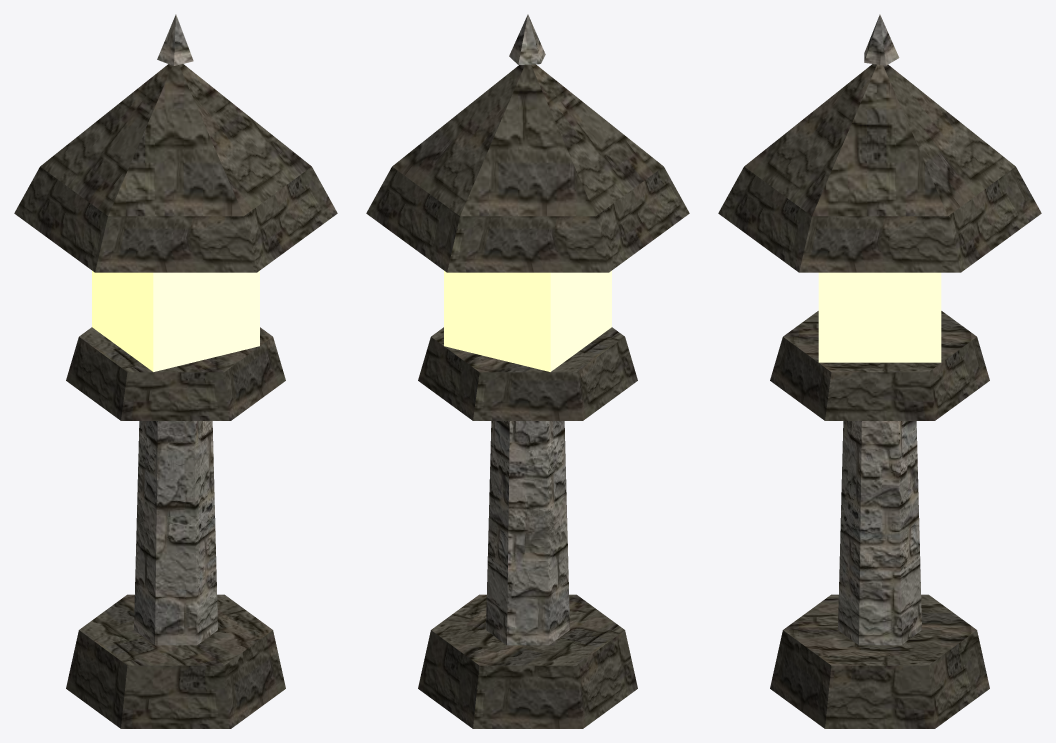
Rendered from stone_lantern_01.glb.
3 renders of one model, left to right at view 1: azimuth 30°, elevation 25°; view 2: azimuth 150°, elevation 25°; view 3: azimuth 270°, elevation 25°, orthographic.
Parts seen in each view (by area): view 1: stone_lantern_01; view 2: stone_lantern_01; view 3: stone_lantern_01.
Boxes of the visible parts, <box> form: stone_lantern_01: <box>14,14,337,728</box>; stone_lantern_01: <box>366,14,689,728</box>; stone_lantern_01: <box>718,14,1041,728</box>.
Size of the model in its own units: 0.866 by 2.3 by 1.
Materials: 3 (2 with a texture image).
